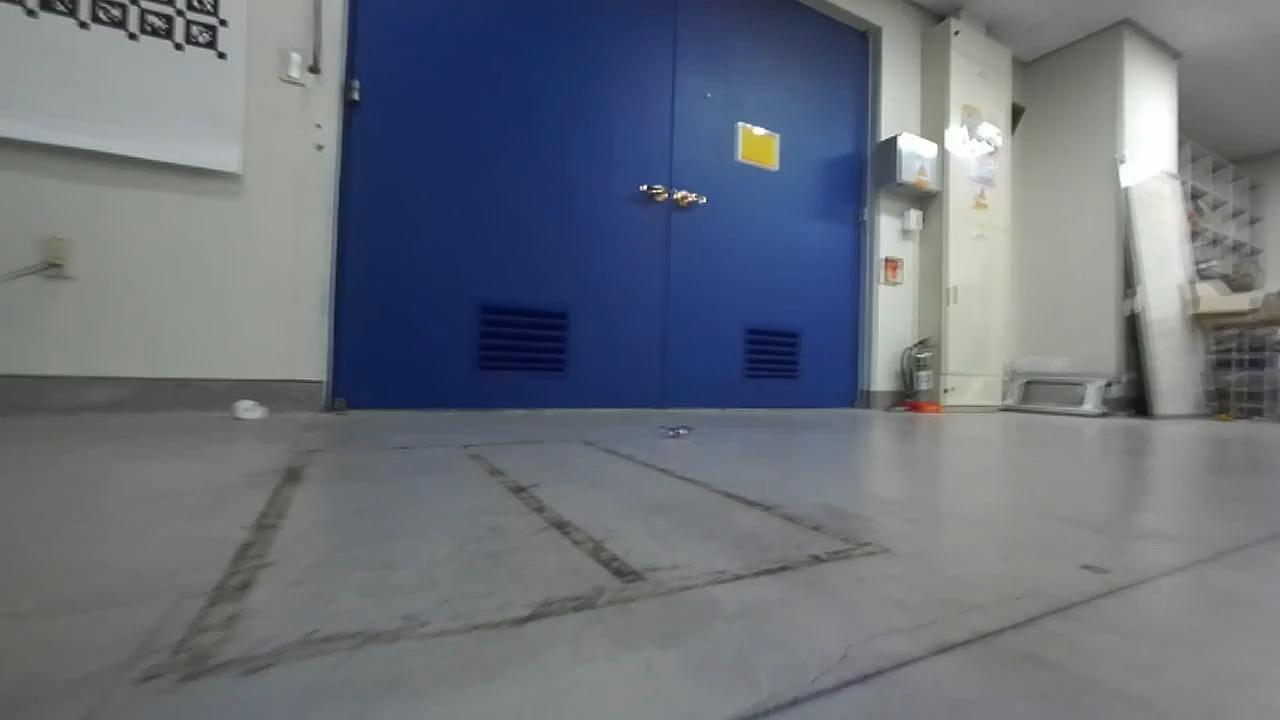crazyflie: (650, 416, 704, 445)
